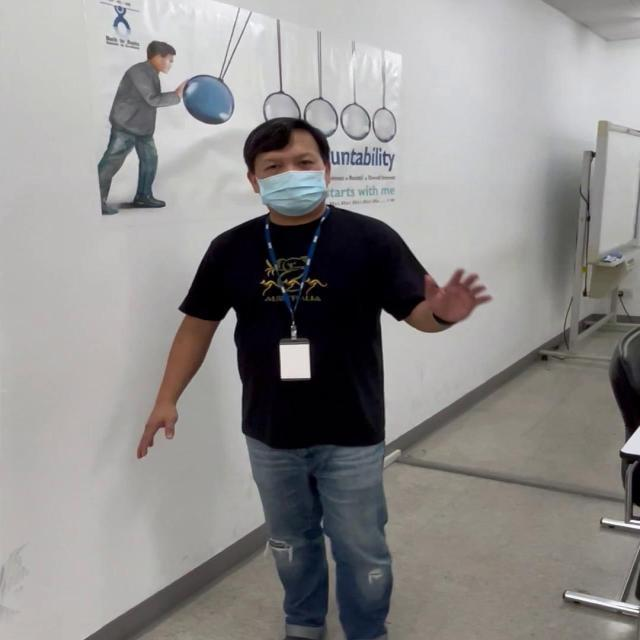bare_hand: (427, 261, 491, 328), (133, 394, 181, 461)
